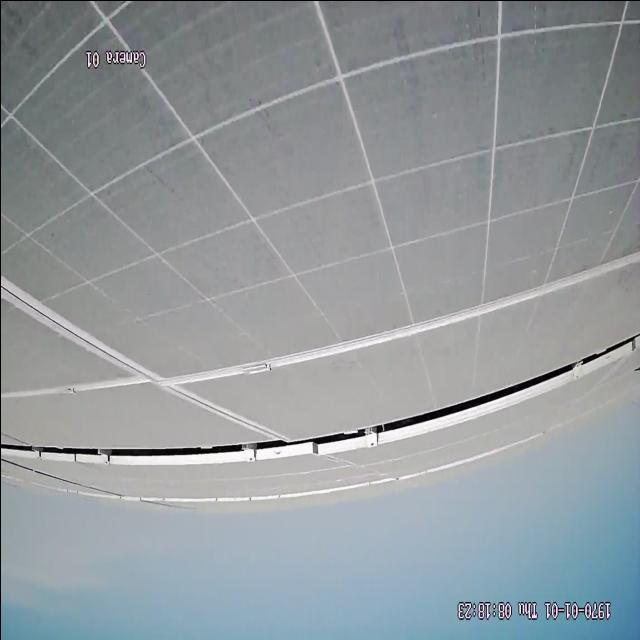interior panel: (3, 244, 640, 439)
outher panel: (1, 334, 638, 465)
